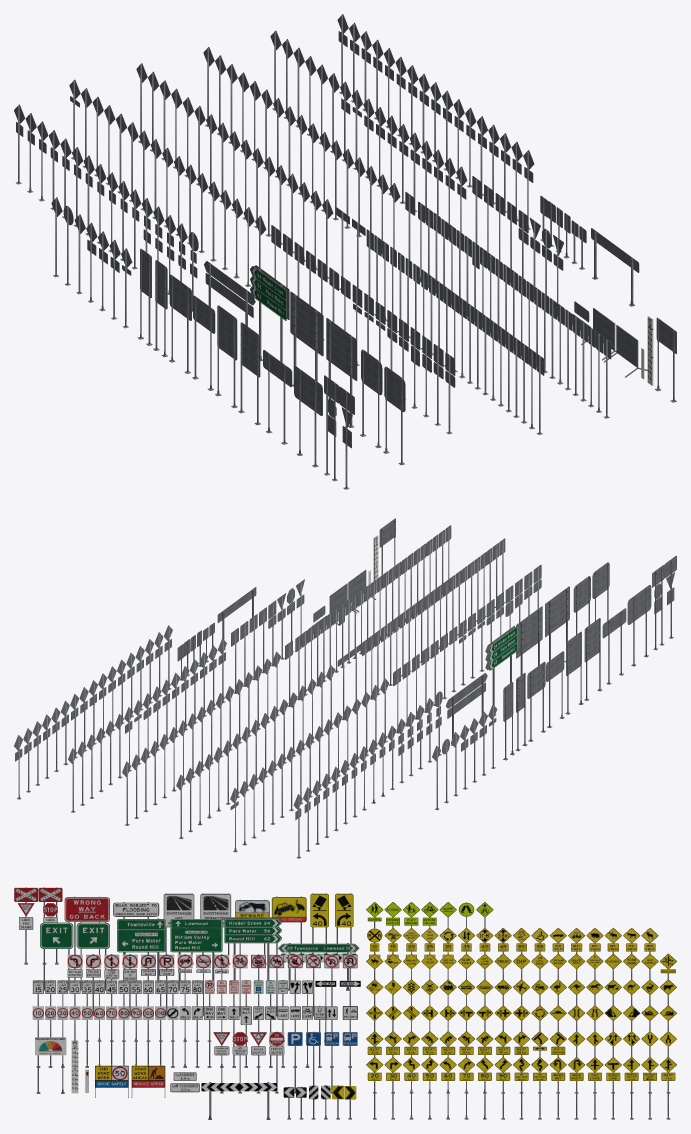
Rendered from road_signs_asset_pack__australian_american.glb.
3 views of the same model, one above another, from view 1: azimuth 30°, elevation 25°; view 2: azimuth 150°, elevation 25°; view 3: azimuth 270°, elevation 25° (orthographic). The views are drawn at different scales.
Parts seen in each view (by area): view 1: Sign.090_0, Sign.091_1, Sign.270_4, Sign.094_2, Sign.277_50, Sign.275_48, Sign.086_43, Sign.085_42, Sign.092_3, Sign.395_26, Sign.088_44, Sign.276_49 (+7 smaller); view 2: Sign.091_1, Sign.090_0, Sign.270_4, Sign.094_2, Sign.277_50, Sign.086_43, Sign.275_48, Sign.085_42, Sign.087_45, Sign.088_44, Sign.276_49, Sign.395_26 (+3 smaller); view 3: Sign.090_0, Sign.270_4, Sign.091_1, Sign.277_50, Sign.094_2, Sign.092_3, Sign.395_26, Sign.085_42, Sign.086_43, Sign.275_48, Sign.269_40, Sign_ReduceSpeed_34 (+9 smaller).
Part boxes in pixels (x1,y1,x2,y2): Sign.090_0: (290, 291, 323, 386); Sign.091_1: (250, 265, 289, 362); Sign.270_4: (326, 318, 357, 427); Sign.094_2: (204, 261, 255, 326); Sign.277_50: (294, 366, 322, 467); Sign.275_48: (215, 305, 237, 407); Sign.086_43: (238, 322, 260, 424); Sign.085_42: (169, 274, 191, 373); Sign.092_3: (383, 366, 405, 465); Sign.395_26: (360, 349, 382, 447); Sign.088_44: (263, 350, 292, 444); Sign.276_49: (192, 295, 215, 390); Sign.091_1: (485, 625, 517, 715); Sign.090_0: (516, 606, 542, 675); Sign.270_4: (545, 586, 569, 662); Sign.094_2: (446, 673, 487, 745); Sign.277_50: (627, 585, 651, 666); Sign.086_43: (584, 618, 601, 700); Sign.275_48: (565, 631, 583, 714); Sign.085_42: (527, 661, 545, 741); Sign.087_45: (652, 565, 664, 650); Sign.088_44: (602, 608, 626, 684); Sign.276_49: (546, 651, 564, 727); Sign.395_26: (573, 576, 590, 634); Sign.090_0: (170, 918, 222, 990); Sign.270_4: (117, 918, 165, 980); Sign.091_1: (224, 917, 281, 980); Sign.277_50: (64, 896, 109, 964); Sign.094_2: (278, 943, 359, 990); Sign.092_3: (40, 922, 73, 990); Sign.395_26: (76, 922, 109, 990); Sign.085_42: (271, 896, 306, 964); Sign.086_43: (163, 893, 194, 964); Sign.275_48: (200, 893, 231, 964); Sign.269_40: (201, 1082, 276, 1119); Sign_ReduceSpeed_34: (131, 1065, 165, 1097).
Bounding box in the file's own units: 60.6 × 13.81 × 108.
2 materials, 2 textured.
